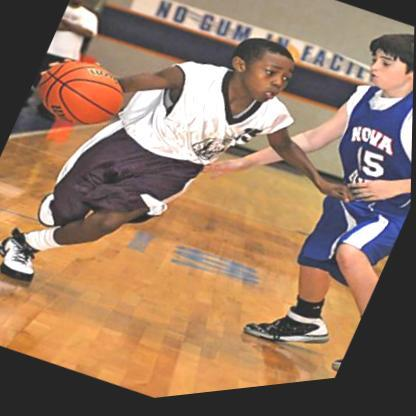basketball: (27, 44, 135, 145)
